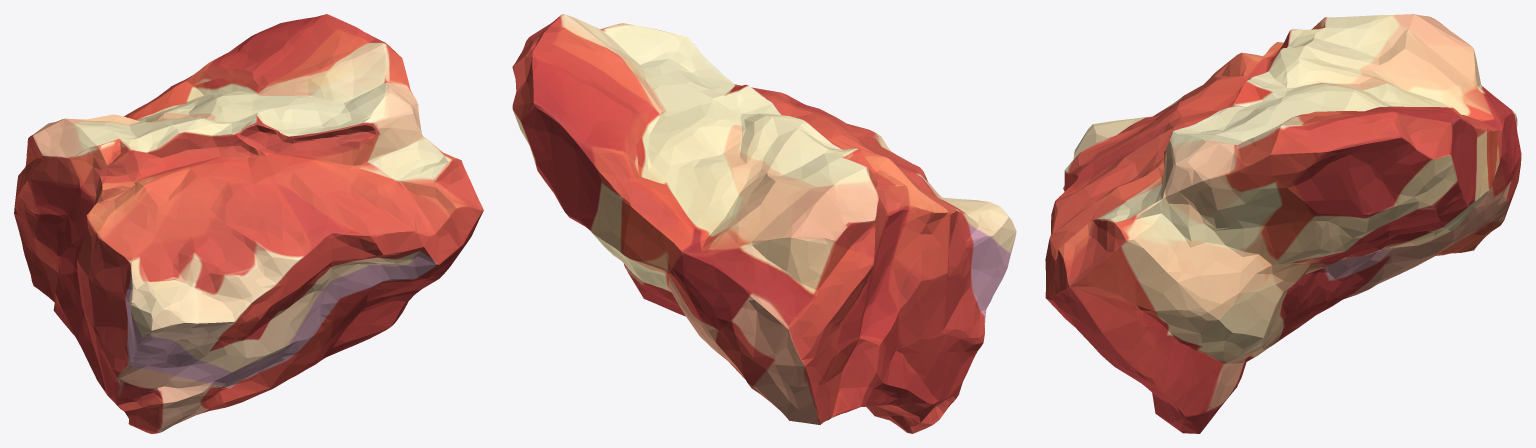
The model's file is the-save-mart-company-pork-butt-roast-6a4418.glb.
3 renders of one model, left to right at view 1: azimuth 30°, elevation 25°; view 2: azimuth 150°, elevation 25°; view 3: azimuth 270°, elevation 25°, orthographic. The views are drawn at different scales.
Parts seen in each view (by area): view 1: tmp3xkchy_b.ply; view 2: tmp3xkchy_b.ply; view 3: tmp3xkchy_b.ply.
Boxes of the visible parts, <box> form: tmp3xkchy_b.ply: <box>14,14,483,433</box>; tmp3xkchy_b.ply: <box>512,14,1016,433</box>; tmp3xkchy_b.ply: <box>1045,14,1521,433</box>.
Bounding box in the file's own units: 2 × 1.78 × 1.9.
1 material, 1 textured.
